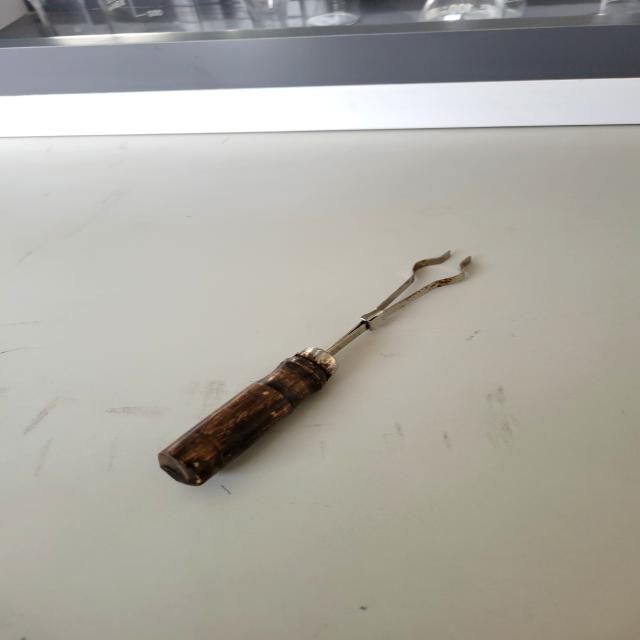TestTube_Holder: (94, 242, 487, 494)
